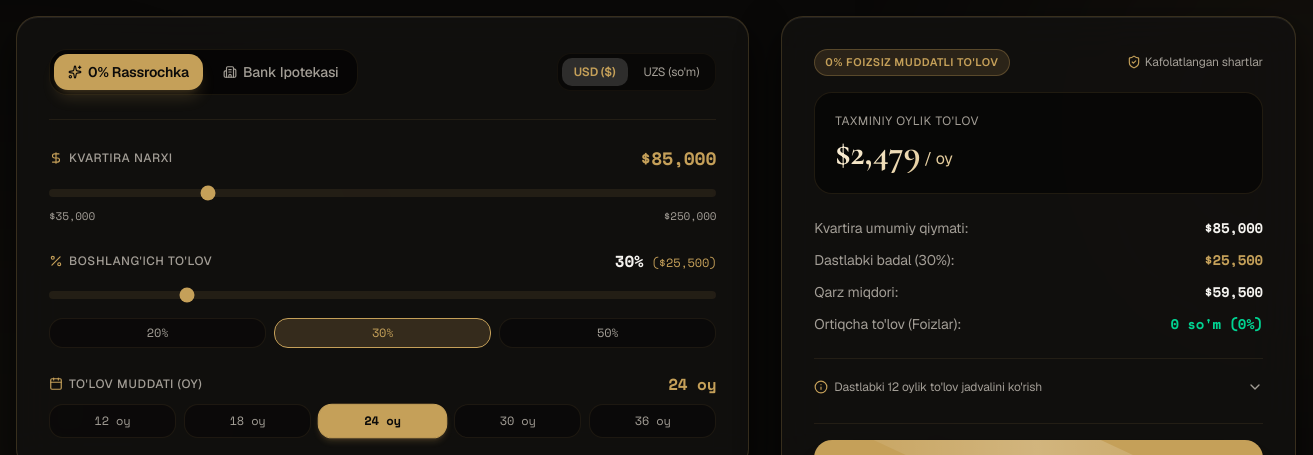
Test: MortgageCalculator Component › switches to Bank Ipotekasi mode and back
Click the button "Bank Ipotekasi". click: point(281, 72)
box: [209,54,352,90]
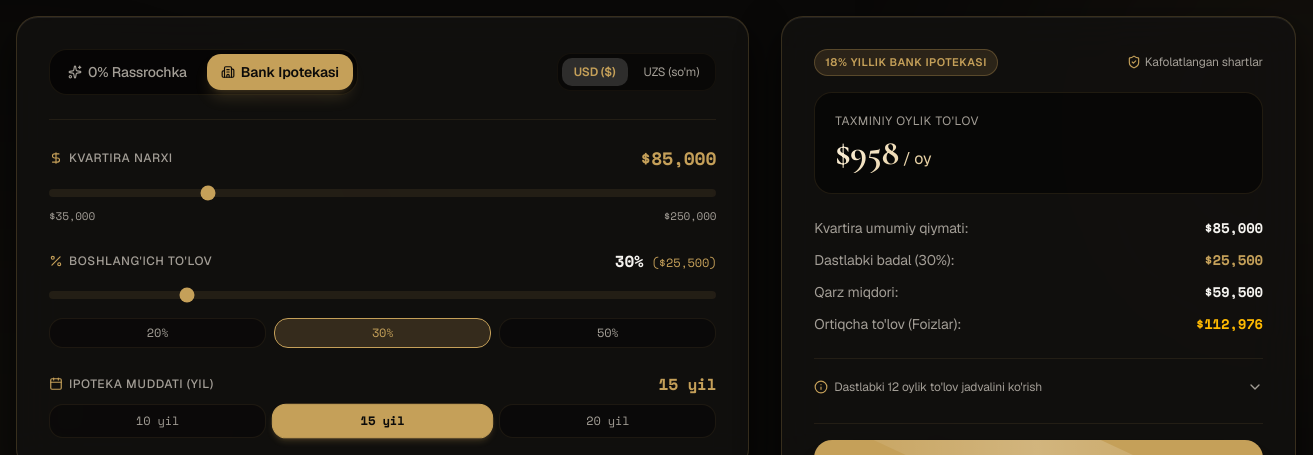
Result: the text "18% Yillik bank ipotekasi" is shown at [814,49,998,76]
Result: the text "Ipoteka muddati (yil)" is shown at [69,376,214,392]
Result: the button "15 yil" is shown at [272,403,493,438]
Click the button "0% Rassrochka". click: point(127, 72)
box: [54,54,201,90]
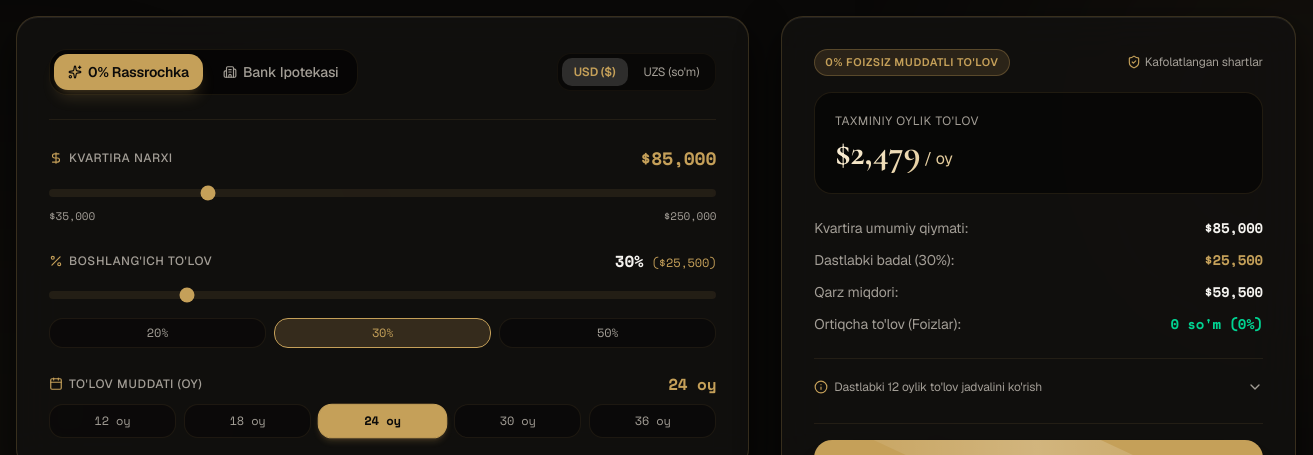
Result: the text "0% Foizsiz muddatli to'lov" is shown at [814,49,1010,76]
